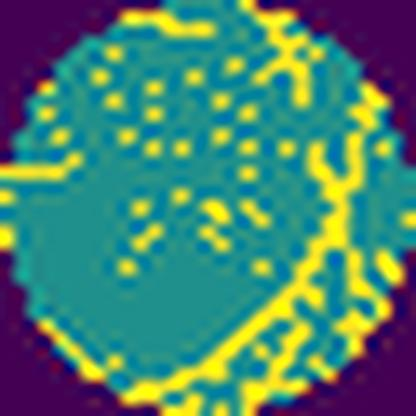Scratch: (113, 74, 415, 416), (238, 0, 338, 104), (0, 129, 97, 206), (113, 0, 228, 55)
